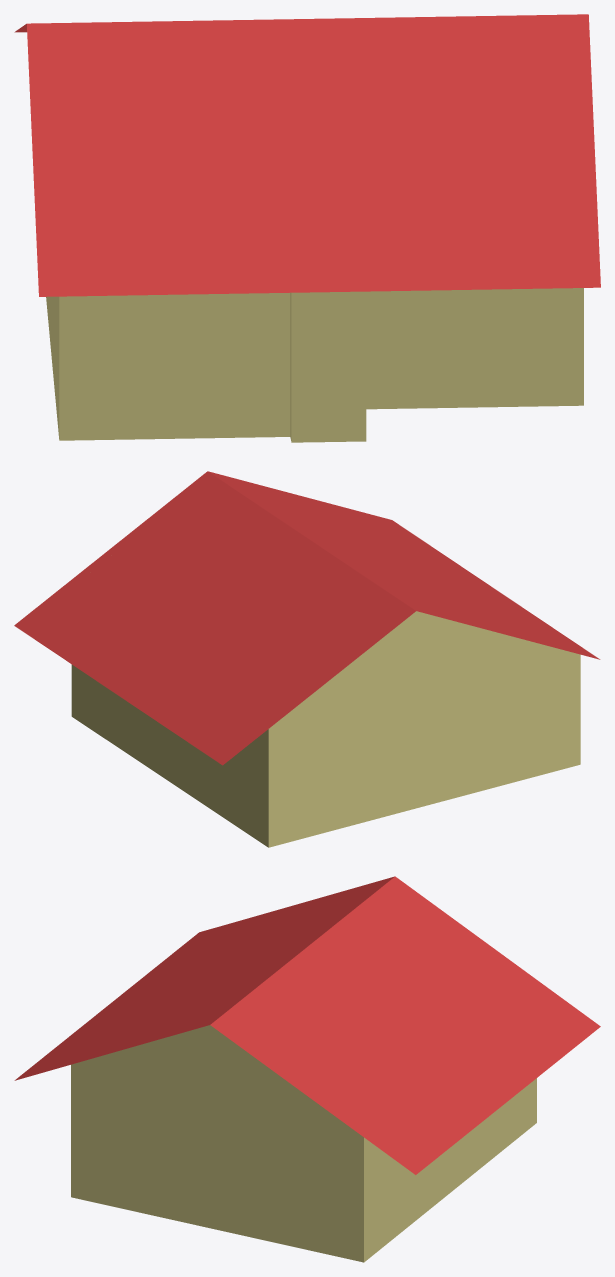
The picture shows the model from 3 angles, top to bottom: view 1: azimuth 30°, elevation 25°; view 2: azimuth 150°, elevation 25°; view 3: azimuth 270°, elevation 25°; orthographic projection. The views are drawn at different scales.
Bounding box in the file's own units: 35.14 × 36.62 × 14.31.
